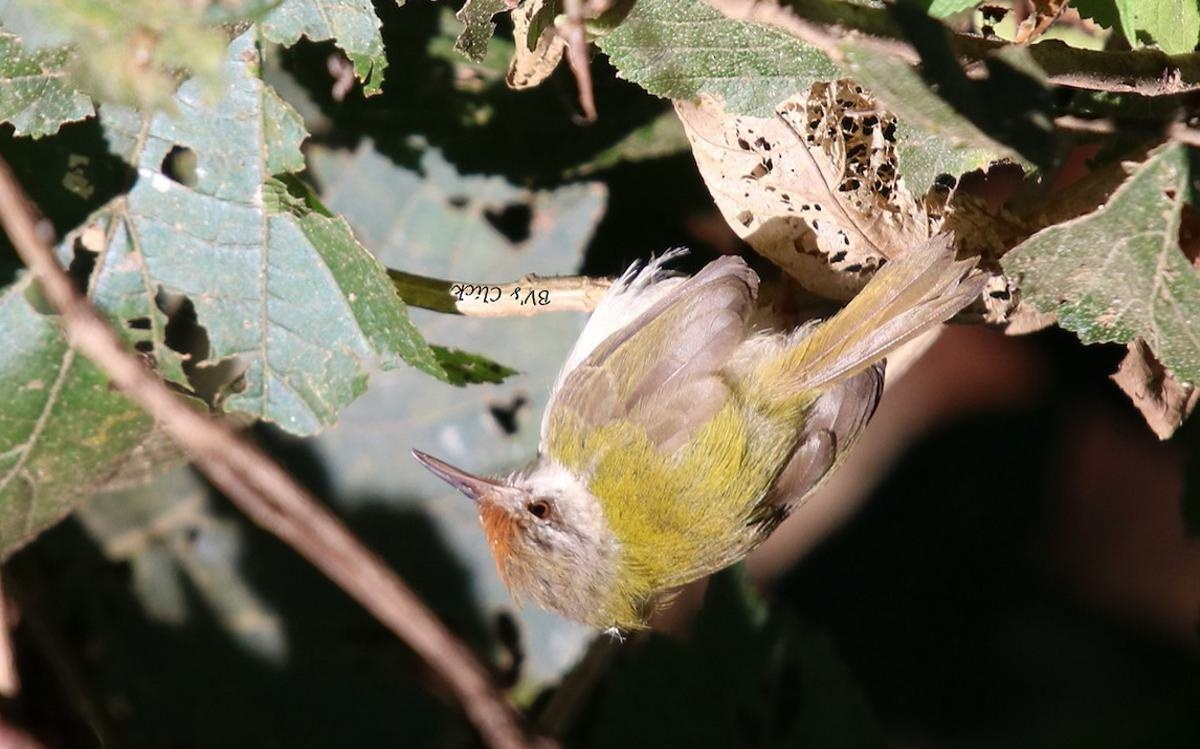tailorbird: (403, 234, 979, 655)
